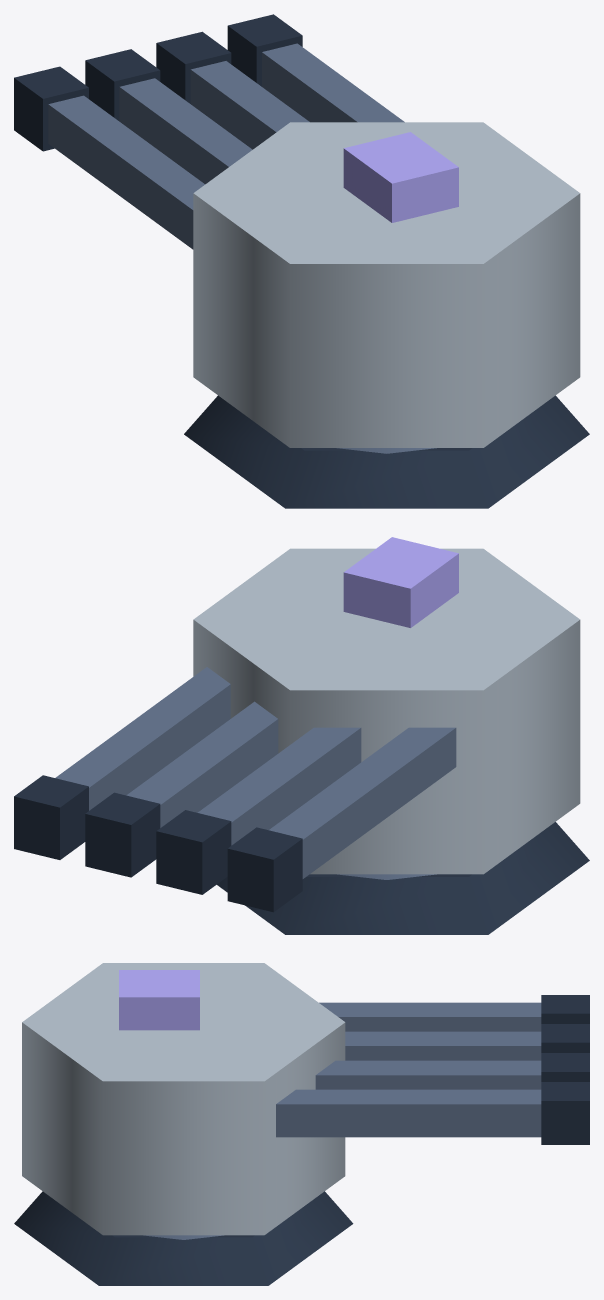
The model's file is cryogenic_hydrocarbon--point_defense.glb.
The picture shows the model from 3 angles, top to bottom: view 1: azimuth 30°, elevation 25°; view 2: azimuth 150°, elevation 25°; view 3: azimuth 270°, elevation 25°; orthographic projection. The views are drawn at different scales.
Parts seen in each view (by area): view 1: faceted_module_housing_3, mount_adapter_1, weapon_barrel_4, targeting_unit_12, weapon_barrel_6, weapon_barrel_10, weapon_barrel_8, muzzle_5, muzzle_7, muzzle_9, muzzle_11; view 2: faceted_module_housing_3, mount_adapter_1, weapon_barrel_4, weapon_barrel_10, weapon_barrel_6, weapon_barrel_8, targeting_unit_12, muzzle_5, muzzle_7, muzzle_9, muzzle_11; view 3: faceted_module_housing_3, mount_adapter_1, weapon_barrel_10, weapon_barrel_8, weapon_barrel_4, weapon_barrel_6, targeting_unit_12, muzzle_11, muzzle_5, muzzle_7, muzzle_9.
Boxes of the visible parts, <box> form: faceted_module_housing_3: <box>193,122,580,447</box>; mount_adapter_1: <box>184,395,589,508</box>; weapon_barrel_4: <box>48,95,204,249</box>; targeting_unit_12: <box>343,132,458,222</box>; weapon_barrel_6: <box>119,78,252,184</box>; weapon_barrel_10: <box>262,43,404,122</box>; weapon_barrel_8: <box>190,61,309,149</box>; muzzle_5: <box>14,66,88,151</box>; muzzle_7: <box>85,49,160,120</box>; muzzle_9: <box>156,31,231,103</box>; muzzle_11: <box>227,14,302,86</box>; faceted_module_housing_3: <box>193,548,580,874</box>; mount_adapter_1: <box>217,822,589,934</box>; weapon_barrel_4: <box>269,727,456,878</box>; weapon_barrel_10: <box>55,667,230,810</box>; weapon_barrel_6: <box>197,727,361,845</box>; weapon_barrel_8: <box>126,701,278,827</box>; targeting_unit_12: <box>343,537,458,627</box>; muzzle_5: <box>227,827,302,912</box>; muzzle_7: <box>156,810,231,894</box>; muzzle_9: <box>85,792,160,877</box>; muzzle_11: <box>14,775,88,859</box>; faceted_module_housing_3: <box>22,963,345,1235</box>; mount_adapter_1: <box>14,1191,353,1285</box>; weapon_barrel_10: <box>276,1089,541,1137</box>; weapon_barrel_8: <box>315,1060,541,1089</box>; weapon_barrel_4: <box>319,1002,541,1031</box>; weapon_barrel_6: <box>345,1031,541,1060</box>; targeting_unit_12: <box>119,970,199,1030</box>; muzzle_11: <box>541,1082,589,1144</box>; muzzle_5: <box>541,995,589,1023</box>; muzzle_7: <box>541,1024,589,1052</box>; muzzle_9: <box>541,1053,589,1081</box>.
Bounding box in the file's own units: 4.36 × 3.93 × 8.55.
